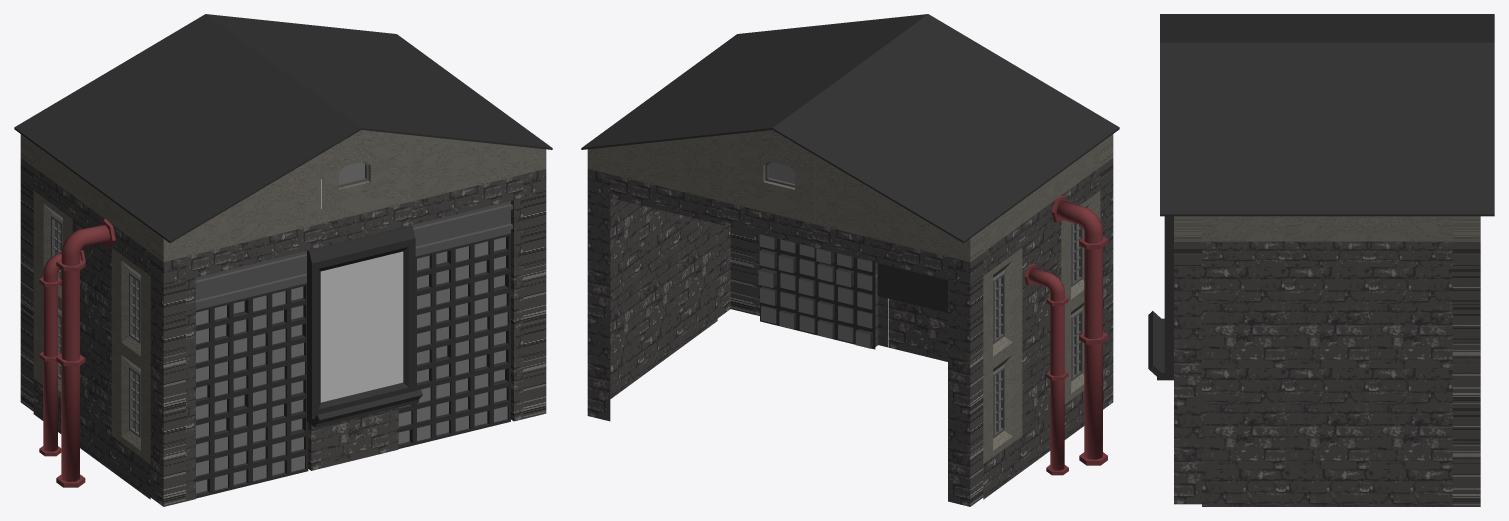
Rendered from BLOCK1.4.fbx.
The picture shows the model from 3 angles, left to right: view 1: azimuth 30°, elevation 25°; view 2: azimuth 150°, elevation 25°; view 3: azimuth 270°, elevation 25°; orthographic projection. The views are drawn at different scales.
Visible parts, largest first — view 1: Plane.245, Plane.260, Plane.246, Plane.225, Plane.247, Plane.229, Plane.239, Plane.237, Plane.226, Plane.231, GeoPipes.012, Plane.248 (+21 smaller); view 2: Plane.245, Plane.247, Plane.240, Plane.261, Plane.238, Plane.257, GeoPipes.012, Plane.259, Plane.243, Plane.250, Plane.249, Plane.242 (+23 smaller); view 3: Plane.245, Plane.241, Plane.243, Plane.254, Plane.261, Plane.262, Plane.263, Plane.264, Plane.265, Plane.266, Plane.267, Plane.269 (+5 smaller).
Boxes of the visible parts, x1,y1,x2,y2 form: Plane.245: [14, 14, 552, 285]; Plane.260: [307, 225, 422, 427]; Plane.246: [196, 377, 308, 498]; Plane.225: [196, 283, 306, 404]; Plane.247: [398, 327, 510, 448]; Plane.229: [415, 233, 510, 350]; Plane.239: [111, 342, 150, 464]; Plane.237: [111, 248, 150, 369]; Plane.226: [196, 251, 306, 309]; Plane.231: [150, 312, 185, 414]; GeoPipes.012: [56, 219, 115, 366]; Plane.248: [150, 404, 185, 506]; Plane.245: [581, 14, 1119, 285]; Plane.247: [758, 234, 875, 349]; Plane.240: [983, 342, 1022, 464]; Plane.261: [639, 220, 678, 342]; Plane.238: [983, 248, 1022, 369]; Plane.257: [948, 312, 983, 414]; GeoPipes.012: [1051, 195, 1107, 344]; Plane.259: [948, 406, 983, 506]; Plane.243: [678, 216, 717, 313]; Plane.250: [717, 224, 752, 317]; Plane.249: [888, 298, 947, 361]; Plane.242: [1022, 221, 1061, 341]; Plane.245: [1160, 14, 1494, 266]; Plane.241: [1202, 267, 1285, 367]; Plane.243: [1202, 368, 1285, 468]; Plane.254: [1285, 267, 1368, 367]; Plane.261: [1285, 368, 1368, 468]; Plane.262: [1369, 267, 1452, 367]; Plane.263: [1369, 368, 1452, 468]; Plane.264: [1369, 469, 1452, 506]; Plane.265: [1285, 469, 1368, 506]; Plane.266: [1202, 469, 1285, 506]; Plane.267: [1452, 305, 1480, 405]; Plane.269: [1452, 406, 1480, 506].
Size of the model in its own units: 1912 by 1464 by 1242.
